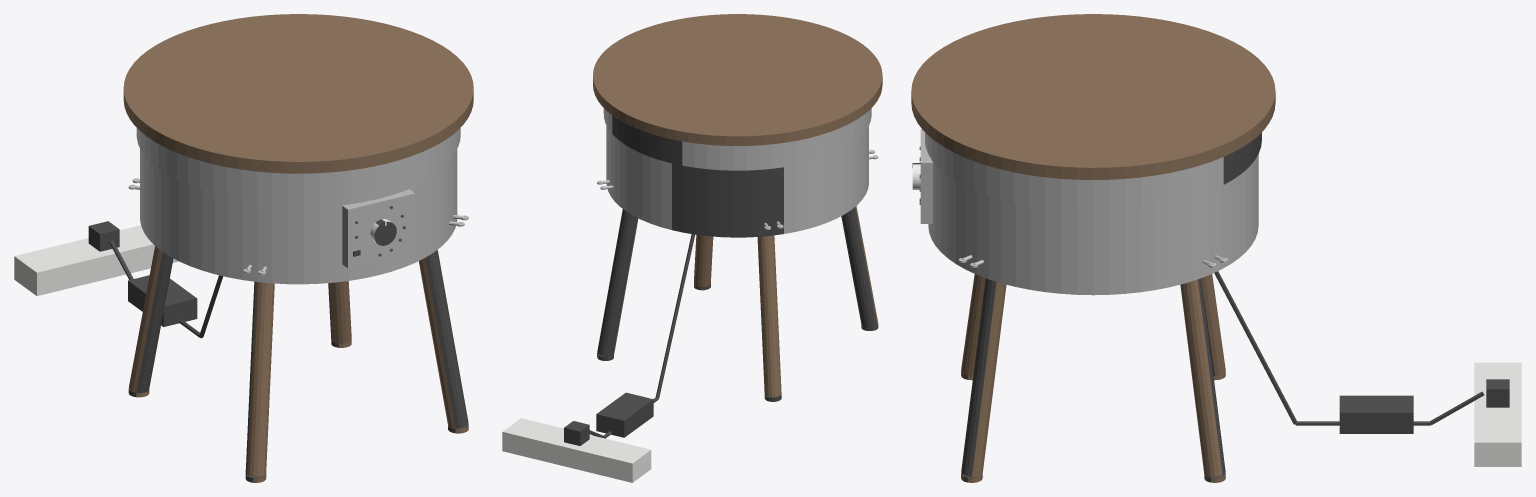
3 views of the same model, side by side, from view 1: azimuth 30°, elevation 25°; view 2: azimuth 150°, elevation 25°; view 3: azimuth 270°, elevation 25° (orthographic). The views are drawn at different scales.
Visible parts, largest first — view 1: Top, Body, PowerStrip, Leg_1, Leg_2, Leg_4, PowerCable, Leg_3, Plug; view 2: Top, Body, PowerStrip, Leg_4, PowerCable, Leg_3, Leg_1, Leg_2, Plug; view 3: Top, Body, Leg_2, Leg_3, PowerCable, PowerStrip, Leg_4, Leg_1, Plug.
Part boxes in pixels (box(x1,y1,x2,y2)): Top: box(123, 14, 473, 173); Body: box(136, 128, 460, 284); PowerStrip: box(14, 225, 178, 295); Leg_1: box(245, 281, 274, 482); Leg_2: box(418, 250, 468, 433); Leg_4: box(128, 246, 173, 397); PowerCable: box(109, 240, 223, 338); Leg_3: box(328, 281, 351, 347); Plug: box(88, 221, 119, 251); Top: box(593, 14, 882, 145); Body: box(603, 108, 871, 237); PowerStrip: box(502, 418, 651, 482); Leg_4: box(757, 235, 781, 401); PowerCable: box(589, 234, 694, 438); Leg_3: box(597, 209, 638, 360); Leg_1: box(841, 206, 878, 330); Leg_2: box(694, 235, 713, 290); Plug: box(564, 421, 589, 445); Top: box(911, 14, 1275, 179); Body: box(912, 129, 1261, 295); Leg_2: box(961, 278, 1006, 482); Leg_3: box(1180, 278, 1225, 482); PowerCable: box(1214, 271, 1484, 433); PowerStrip: box(1474, 362, 1521, 466); Leg_4: box(1201, 274, 1225, 380); Leg_1: box(961, 274, 985, 380); Plug: box(1486, 379, 1509, 407).
Size of the model in its own units: 0.54 by 0.55 by 0.905.
